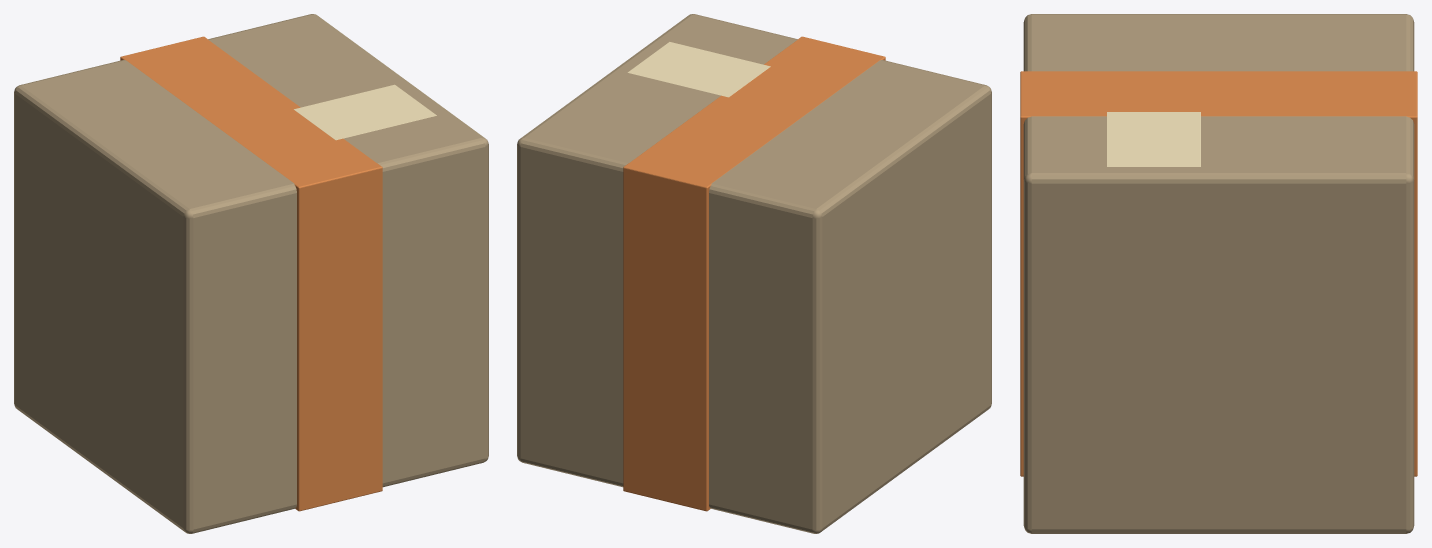
File: parcel.glb
The picture shows the model from 3 angles, left to right: view 1: azimuth 30°, elevation 25°; view 2: azimuth 150°, elevation 25°; view 3: azimuth 270°, elevation 25°; orthographic projection. The views are drawn at different scales.
Parts seen in each view (by area): view 1: parcel; view 2: parcel; view 3: parcel.
Boxes of the visible parts, bbox=[...] form: parcel: bbox=[14, 14, 488, 533]; parcel: bbox=[517, 14, 991, 533]; parcel: bbox=[1020, 14, 1417, 533].
Size of the model in its own units: 0.054 by 0.055 by 0.055.
